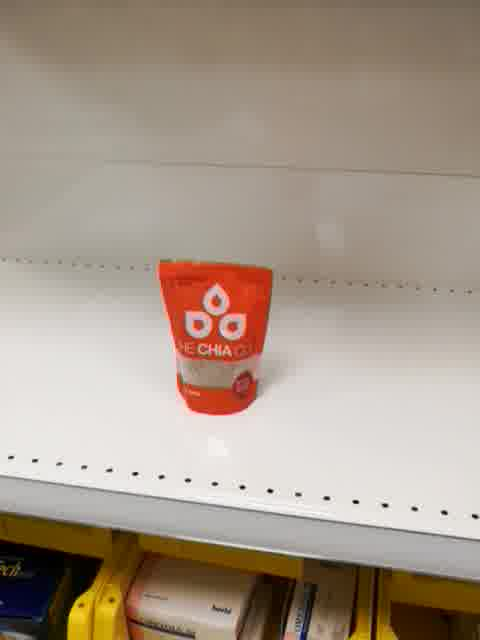whitechia: (155, 253, 274, 418)
